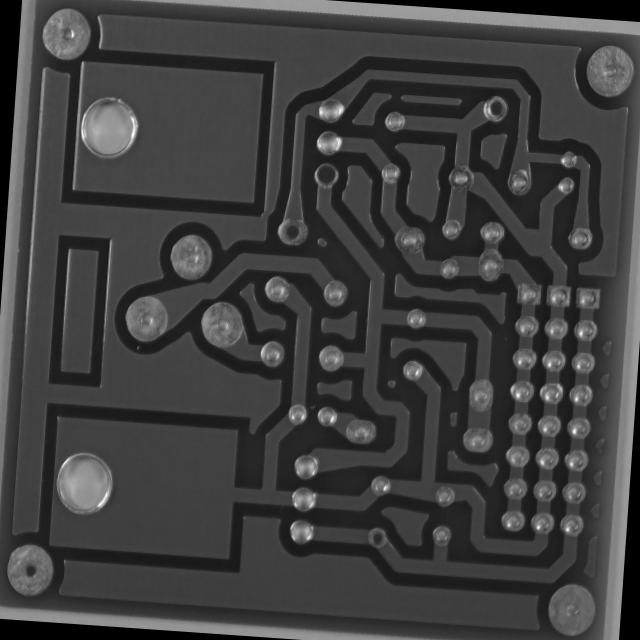missing_hole: (12, 550, 47, 588), (273, 216, 310, 248), (480, 92, 509, 122), (312, 160, 340, 188), (364, 522, 389, 550)
